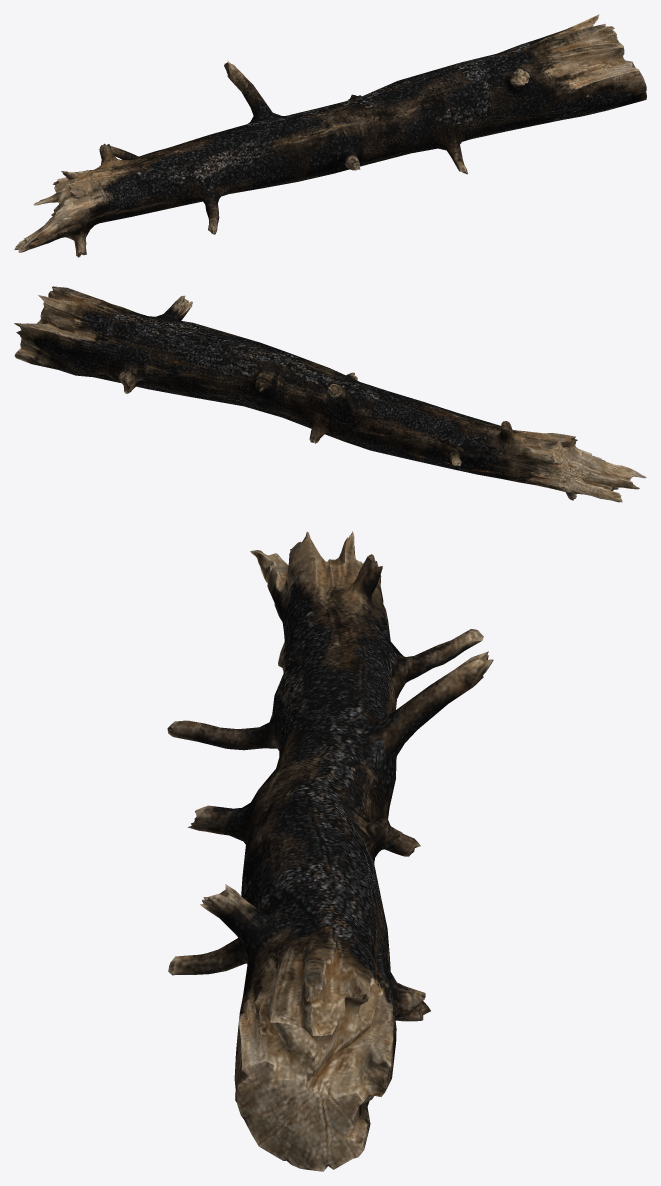
File: SitTreeLog.fbx
3 views of the same model, one above another, from view 1: azimuth 30°, elevation 25°; view 2: azimuth 150°, elevation 25°; view 3: azimuth 270°, elevation 25° (orthographic). The views are drawn at different scales.
Parts seen in each view (by area): view 1: SM_ASY_TreeLog_01.mo; view 2: SM_ASY_TreeLog_01.mo; view 3: SM_ASY_TreeLog_01.mo.
Boxes of the visible parts, left/top/right/bottom form: SM_ASY_TreeLog_01.mo: left=14, top=14, right=646, bottom=257; SM_ASY_TreeLog_01.mo: left=14, top=286, right=646, bottom=502; SM_ASY_TreeLog_01.mo: left=167, top=531, right=493, bottom=1171.
Bounding box in the file's own units: 302 × 50.69 × 70.55.
